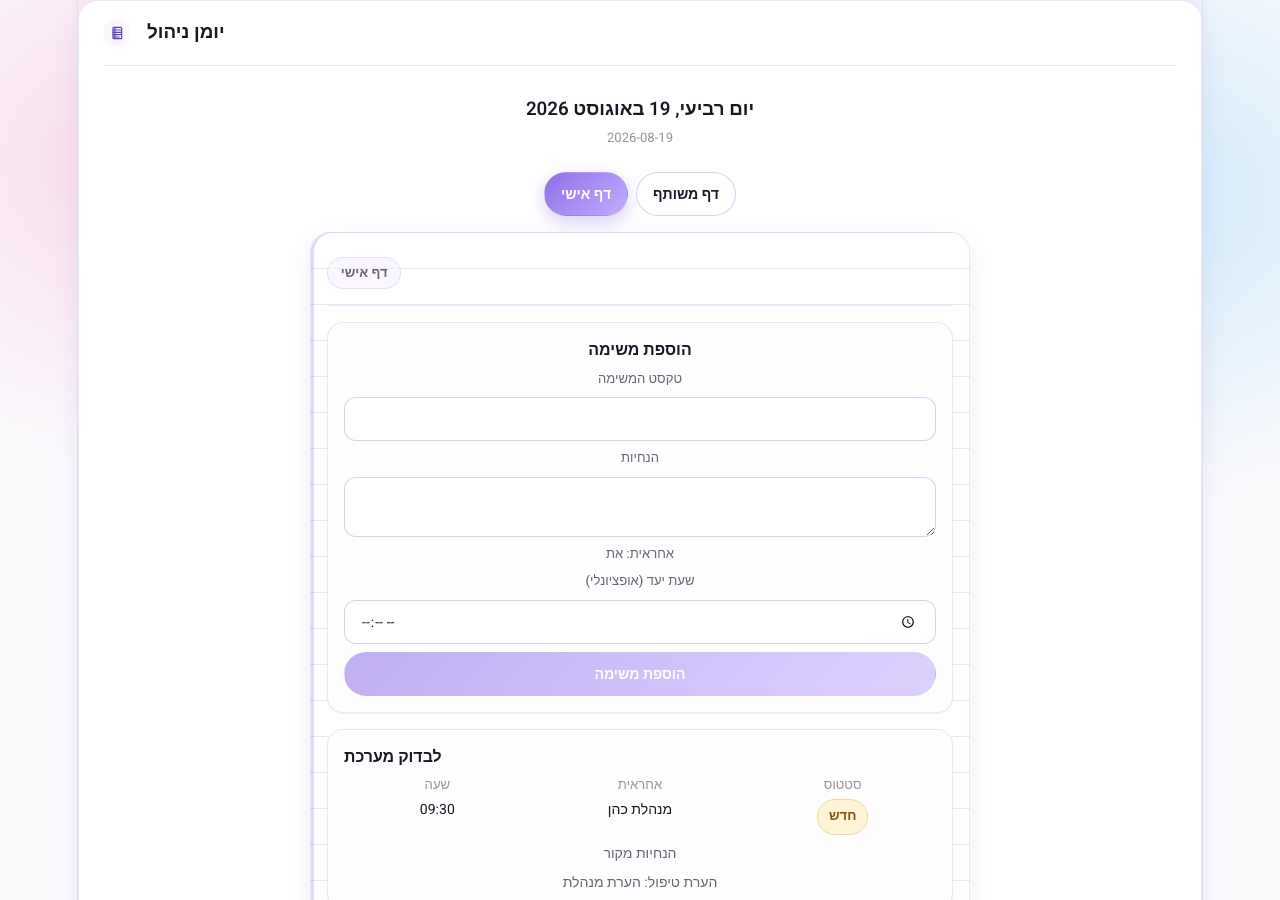
ManagementJournalSection J2B task workflow › keeps status and note read-only for secretary on another responsible user task
Click the radio button labelled "דף משותף".
click(686, 194)  # box [636,172,736,216]
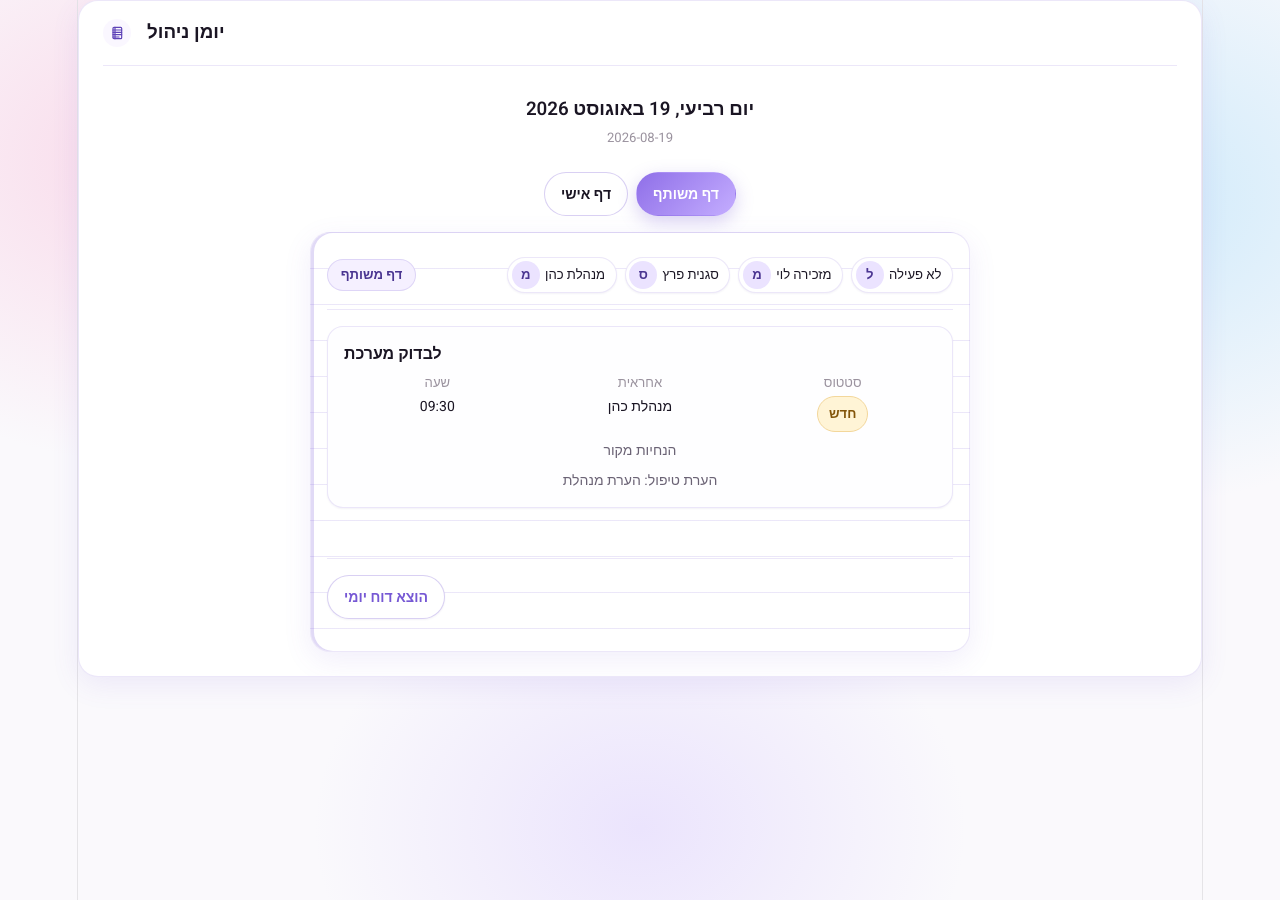
Check: the text with test id "journal-status-readonly" reads "חדש", box [829,404,856,424]
Check: the form with test id "journal-add-task-composer" is gone
